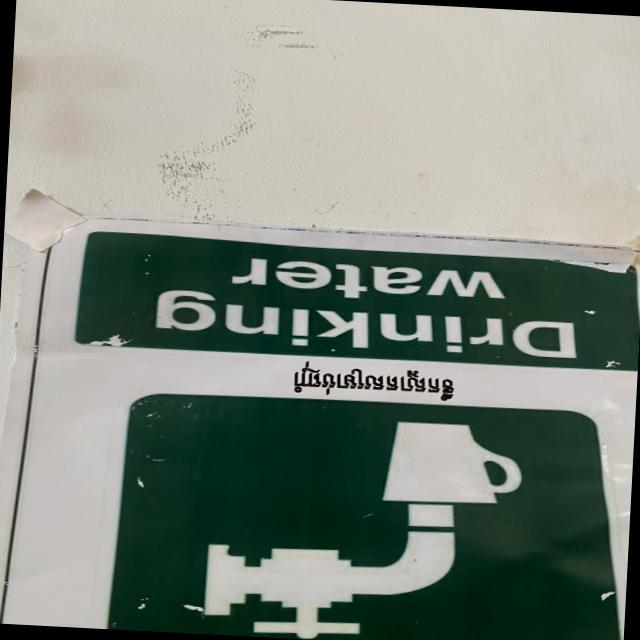Yolov11kh: (283, 360, 457, 404)
